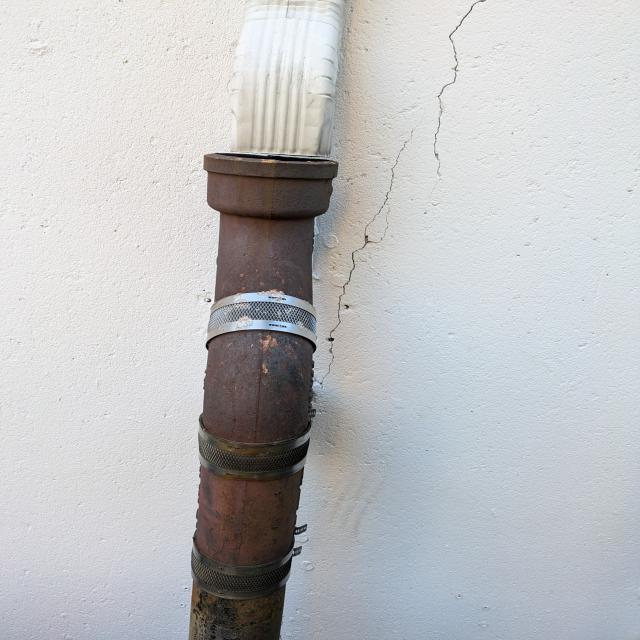Crevice Corrosion: (199, 421, 311, 482), (208, 292, 317, 352), (192, 543, 296, 600)
Uniform Corrosion: (205, 154, 339, 306), (200, 328, 316, 446), (194, 466, 304, 567), (189, 574, 286, 640)
